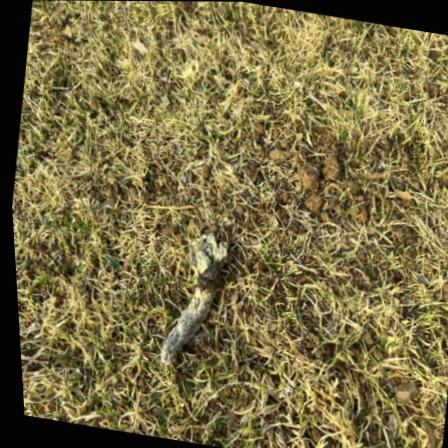dog-poop: (141, 221, 246, 379)
